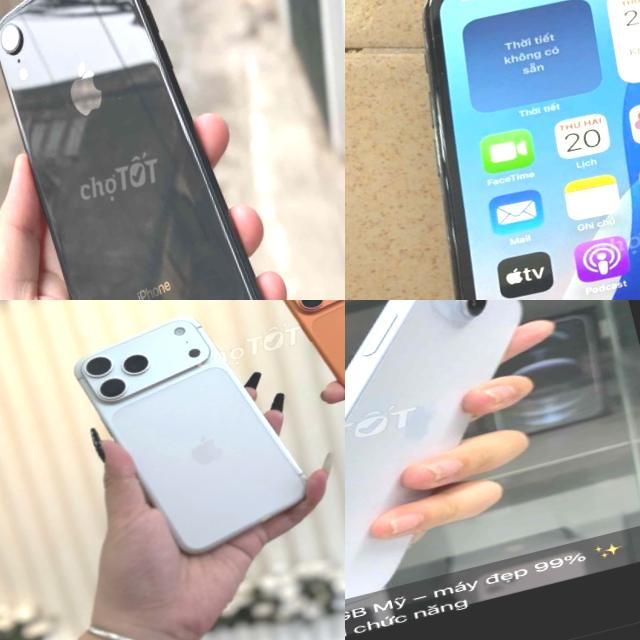gen_15: (345, 300, 596, 640)
gen_17: (273, 300, 345, 456)
gen_x_xs: (0, 0, 264, 300), (423, 0, 640, 300)
